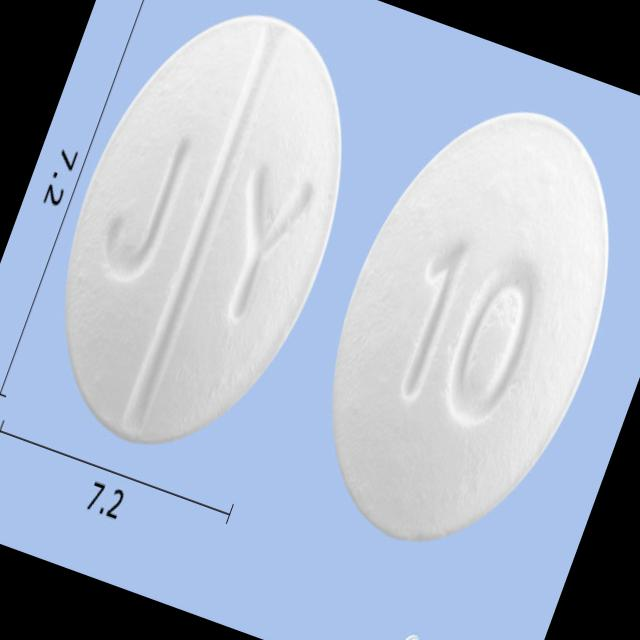Durova - 20mg: (10, 0, 399, 483), (277, 73, 640, 578)
